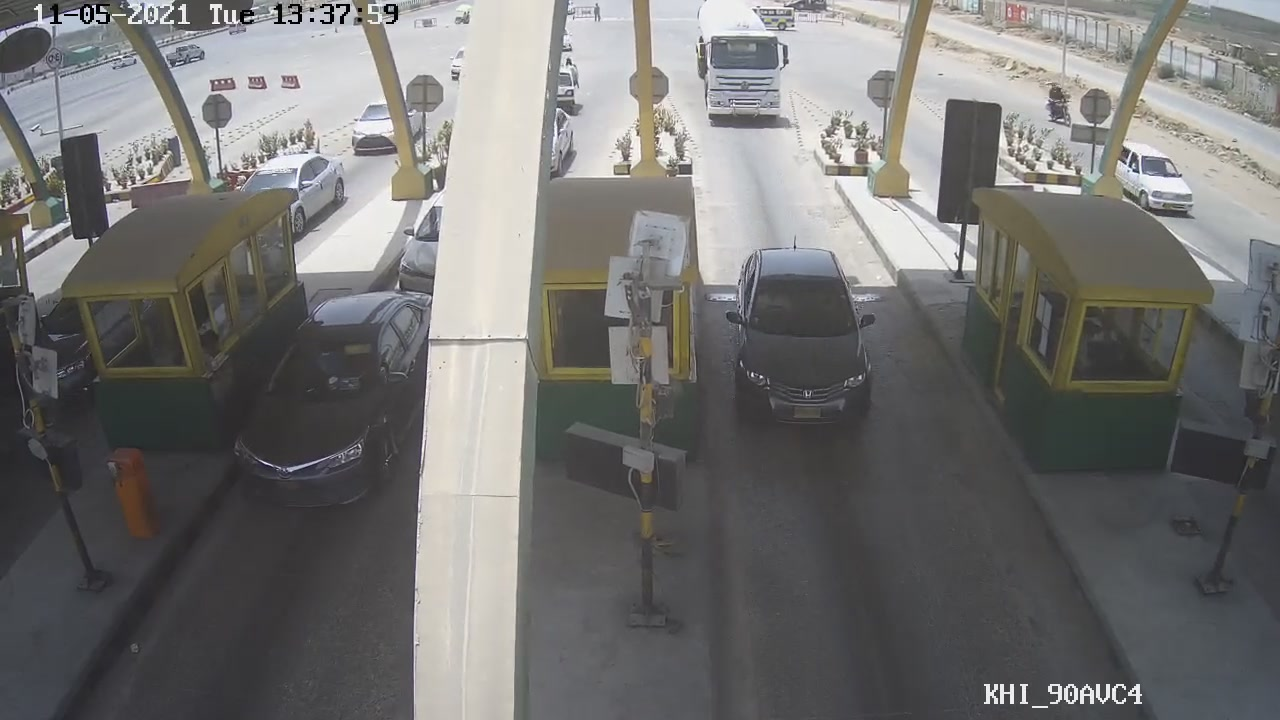F1: (721, 248, 884, 437)
